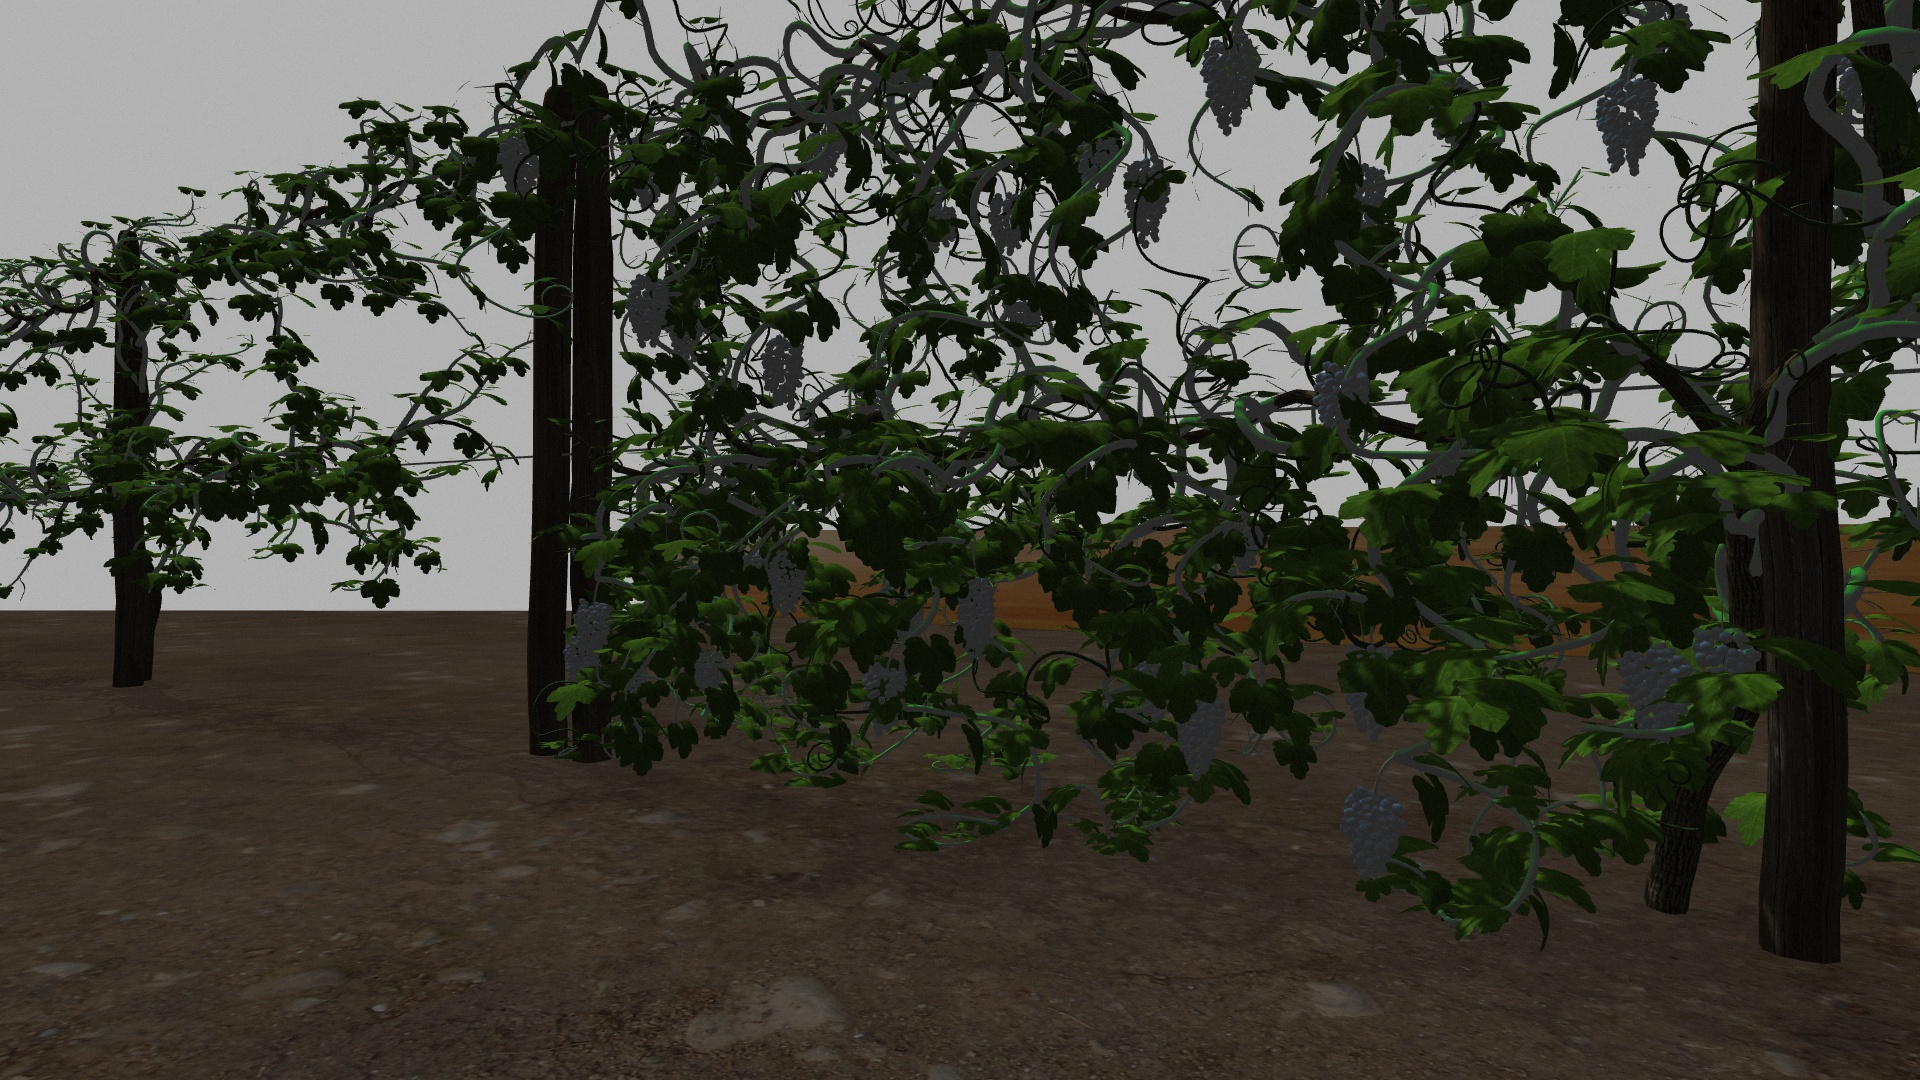grape: (1619, 645, 1692, 735), (1596, 80, 1659, 179), (1203, 34, 1262, 138), (1340, 785, 1403, 878), (1174, 698, 1229, 781), (1122, 158, 1170, 249), (953, 575, 1000, 658), (1312, 363, 1370, 429), (1695, 626, 1762, 680), (493, 129, 543, 200), (758, 332, 808, 404), (626, 276, 666, 349), (765, 549, 807, 616), (985, 194, 1029, 255), (1073, 135, 1120, 190), (806, 127, 847, 183), (861, 657, 909, 703), (576, 601, 609, 661), (694, 647, 728, 694), (563, 642, 582, 684)
